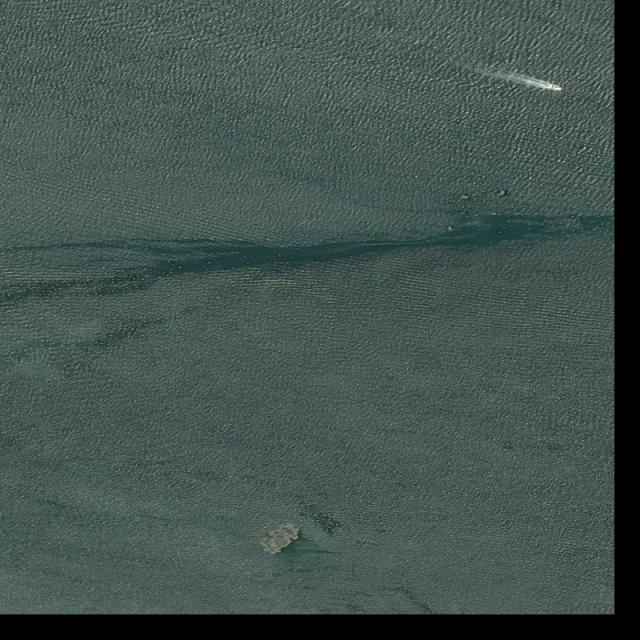ship: (550, 86, 563, 91)
